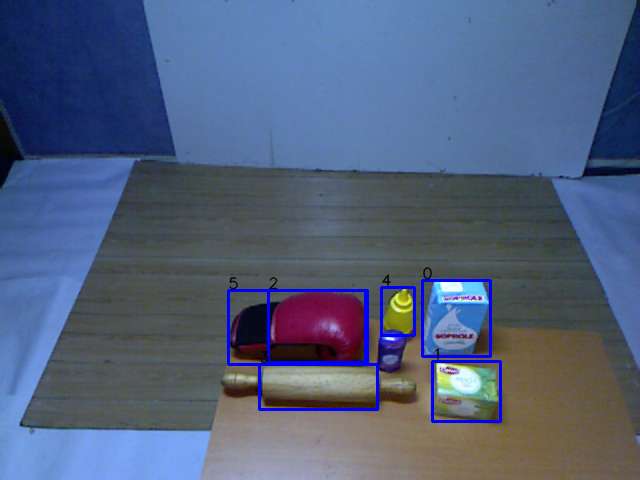desodorante: (371, 326, 411, 378)
guante: (227, 288, 370, 367)
leche: (419, 275, 493, 361)
mostaza: (379, 281, 419, 341)
te: (425, 359, 508, 429)
uslero: (219, 357, 422, 412)
